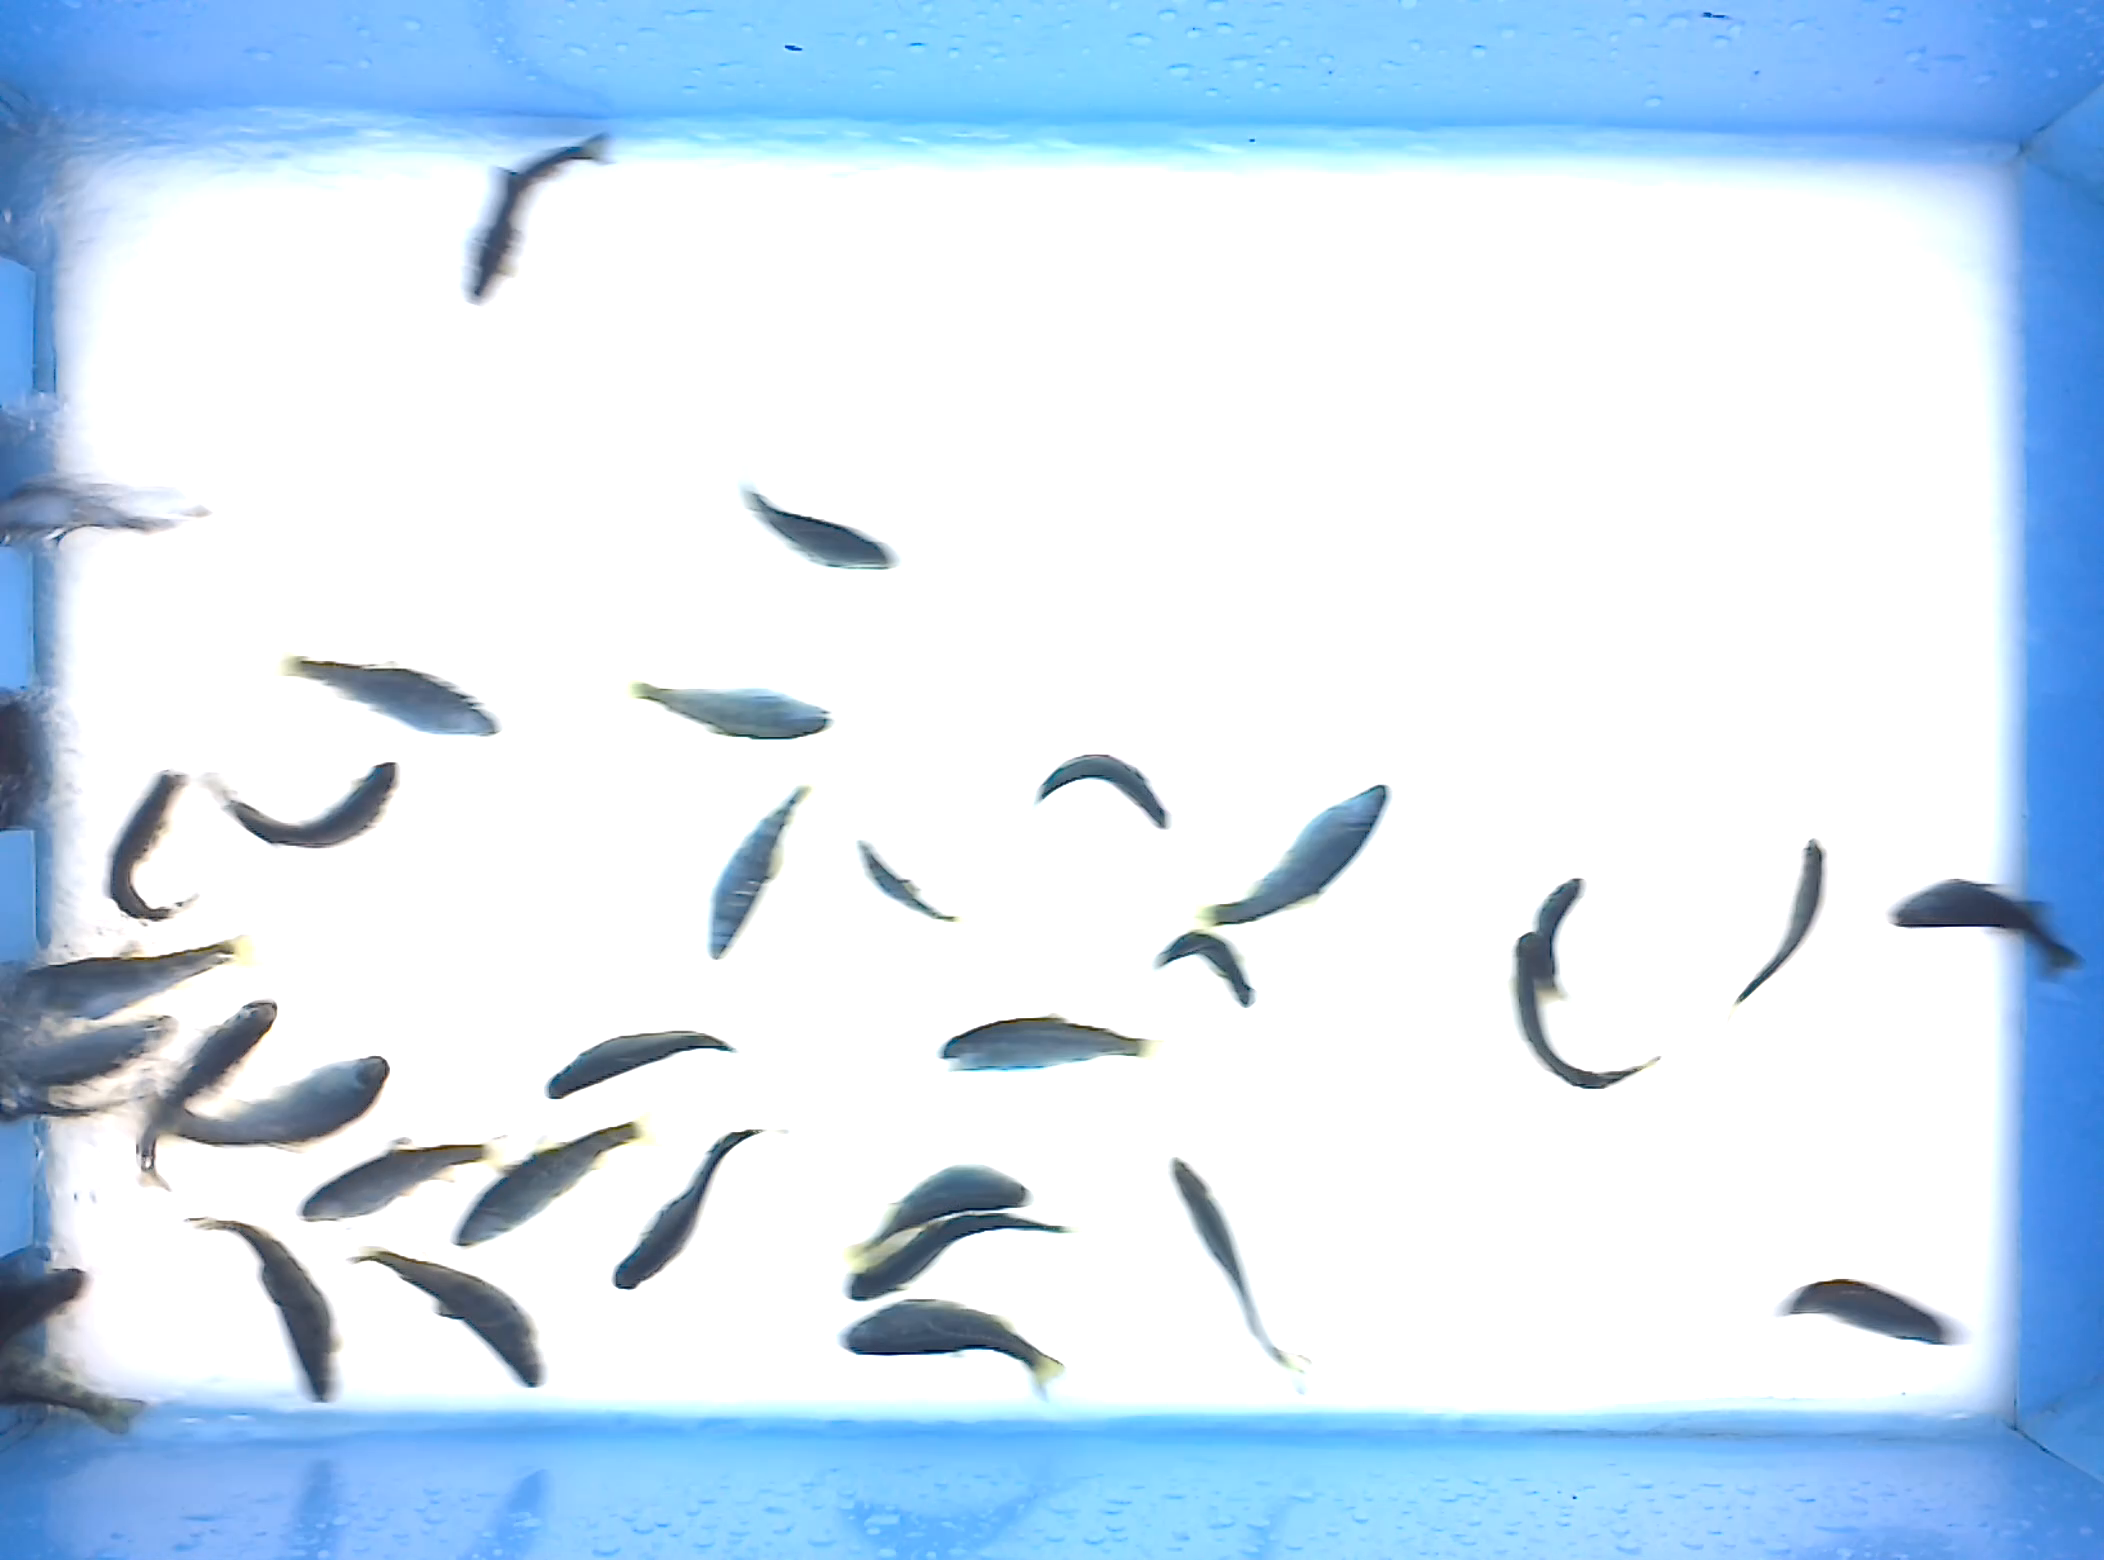fish: (1167, 1155, 1317, 1398), (459, 120, 624, 318), (180, 1214, 346, 1404), (346, 1240, 551, 1391), (134, 991, 283, 1195), (611, 1126, 793, 1291), (1196, 780, 1391, 932), (126, 1052, 393, 1157), (447, 1119, 646, 1249), (834, 1296, 1068, 1403), (5, 931, 261, 1026), (1509, 929, 1655, 1095), (1883, 873, 2089, 986), (841, 1209, 1078, 1303), (839, 1162, 1037, 1268), (274, 651, 501, 742), (701, 782, 814, 964), (293, 1134, 508, 1226), (198, 757, 403, 850), (1725, 834, 1829, 1016), (728, 472, 901, 575), (103, 764, 202, 924), (539, 1027, 746, 1103), (1771, 1275, 1973, 1349), (932, 1011, 1163, 1073), (628, 677, 837, 742), (1032, 752, 1175, 834), (850, 834, 959, 924), (1152, 927, 1258, 1011), (1529, 873, 1585, 1008)
